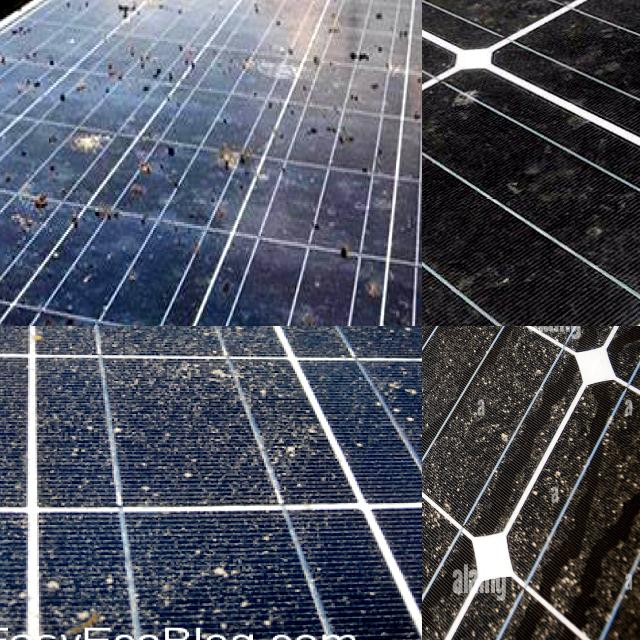bird: (294, 0, 404, 114), (40, 101, 156, 197), (200, 75, 262, 223), (104, 0, 196, 76), (328, 199, 391, 303), (422, 0, 536, 41), (36, 284, 136, 326), (0, 196, 66, 237), (300, 115, 370, 151)
dust: (29, 362, 245, 504), (263, 355, 422, 489), (155, 516, 310, 622), (422, 326, 514, 481), (0, 512, 126, 617), (422, 494, 494, 640), (499, 326, 615, 408), (0, 353, 65, 499), (422, 376, 465, 567), (0, 505, 72, 615), (201, 326, 420, 361), (297, 326, 422, 376), (422, 540, 482, 640), (68, 326, 276, 354), (0, 326, 132, 368), (49, 326, 231, 351), (67, 326, 246, 351), (232, 326, 387, 352), (422, 326, 474, 392), (0, 326, 73, 352)
